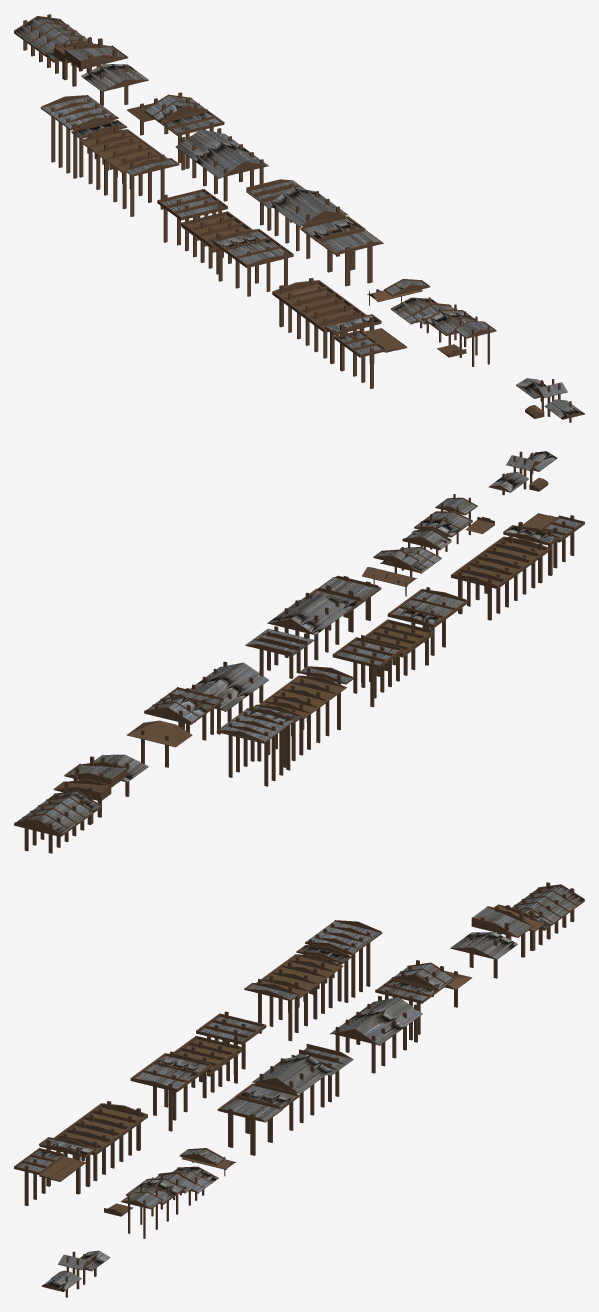
Rendered from busy-levee-rooftops-02.obj.
3 views of the same model, one above another, from view 1: azimuth 30°, elevation 25°; view 2: azimuth 150°, elevation 25°; view 3: azimuth 330°, elevation 25° (orthographic).
Visible parts, largest first — view 1: Blocks; view 2: Blocks; view 3: Blocks.
Boxes of the visible parts, x1,y1,x2,y2 form: Blocks: [14, 14, 584, 422]; Blocks: [14, 451, 584, 853]; Blocks: [14, 882, 584, 1297].
Bounding box in the file's own units: 516 × 214 × 3357.
2 materials, 1 textured.
